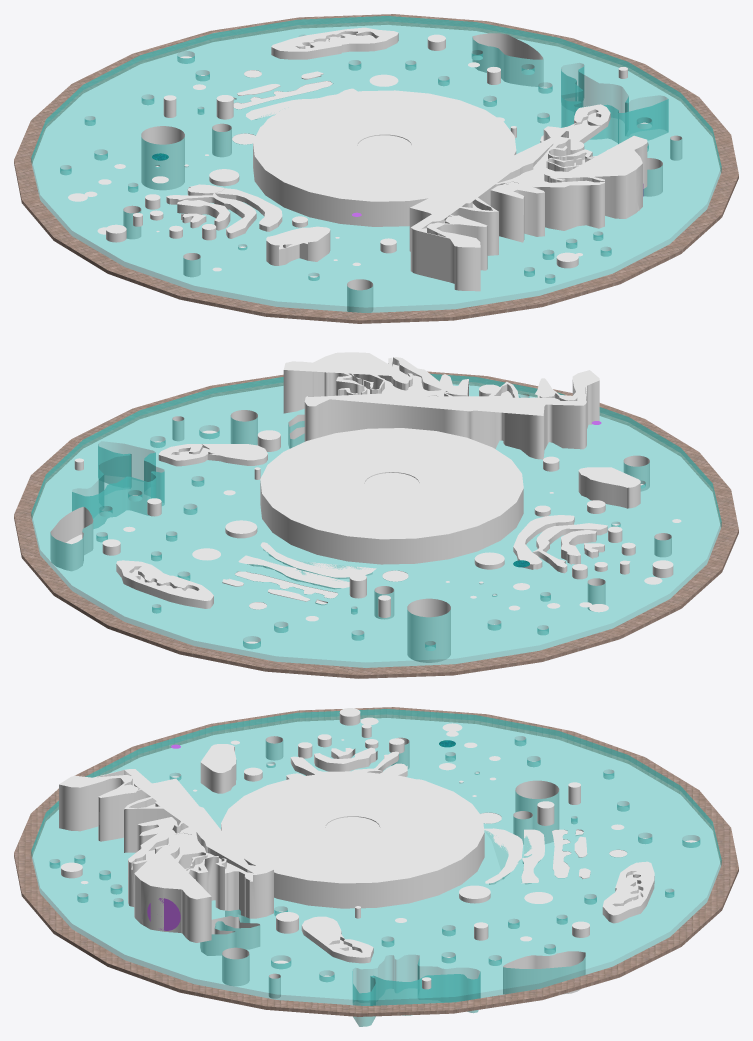
Rendered from Cell.fbx.
3 renders of one model, top to bottom at view 1: azimuth 30°, elevation 25°; view 2: azimuth 150°, elevation 25°; view 3: azimuth 270°, elevation 25°, orthographic.
Parts seen in each view (by area): view 1: Model; view 2: Model; view 3: Model.
Part boxes in pixels (x1,y1,x2,y2): Model: [14, 14, 738, 323]; Model: [14, 352, 738, 678]; Model: [14, 707, 738, 1026].
Size of the model in its own units: 658 by 95.37 by 658.
